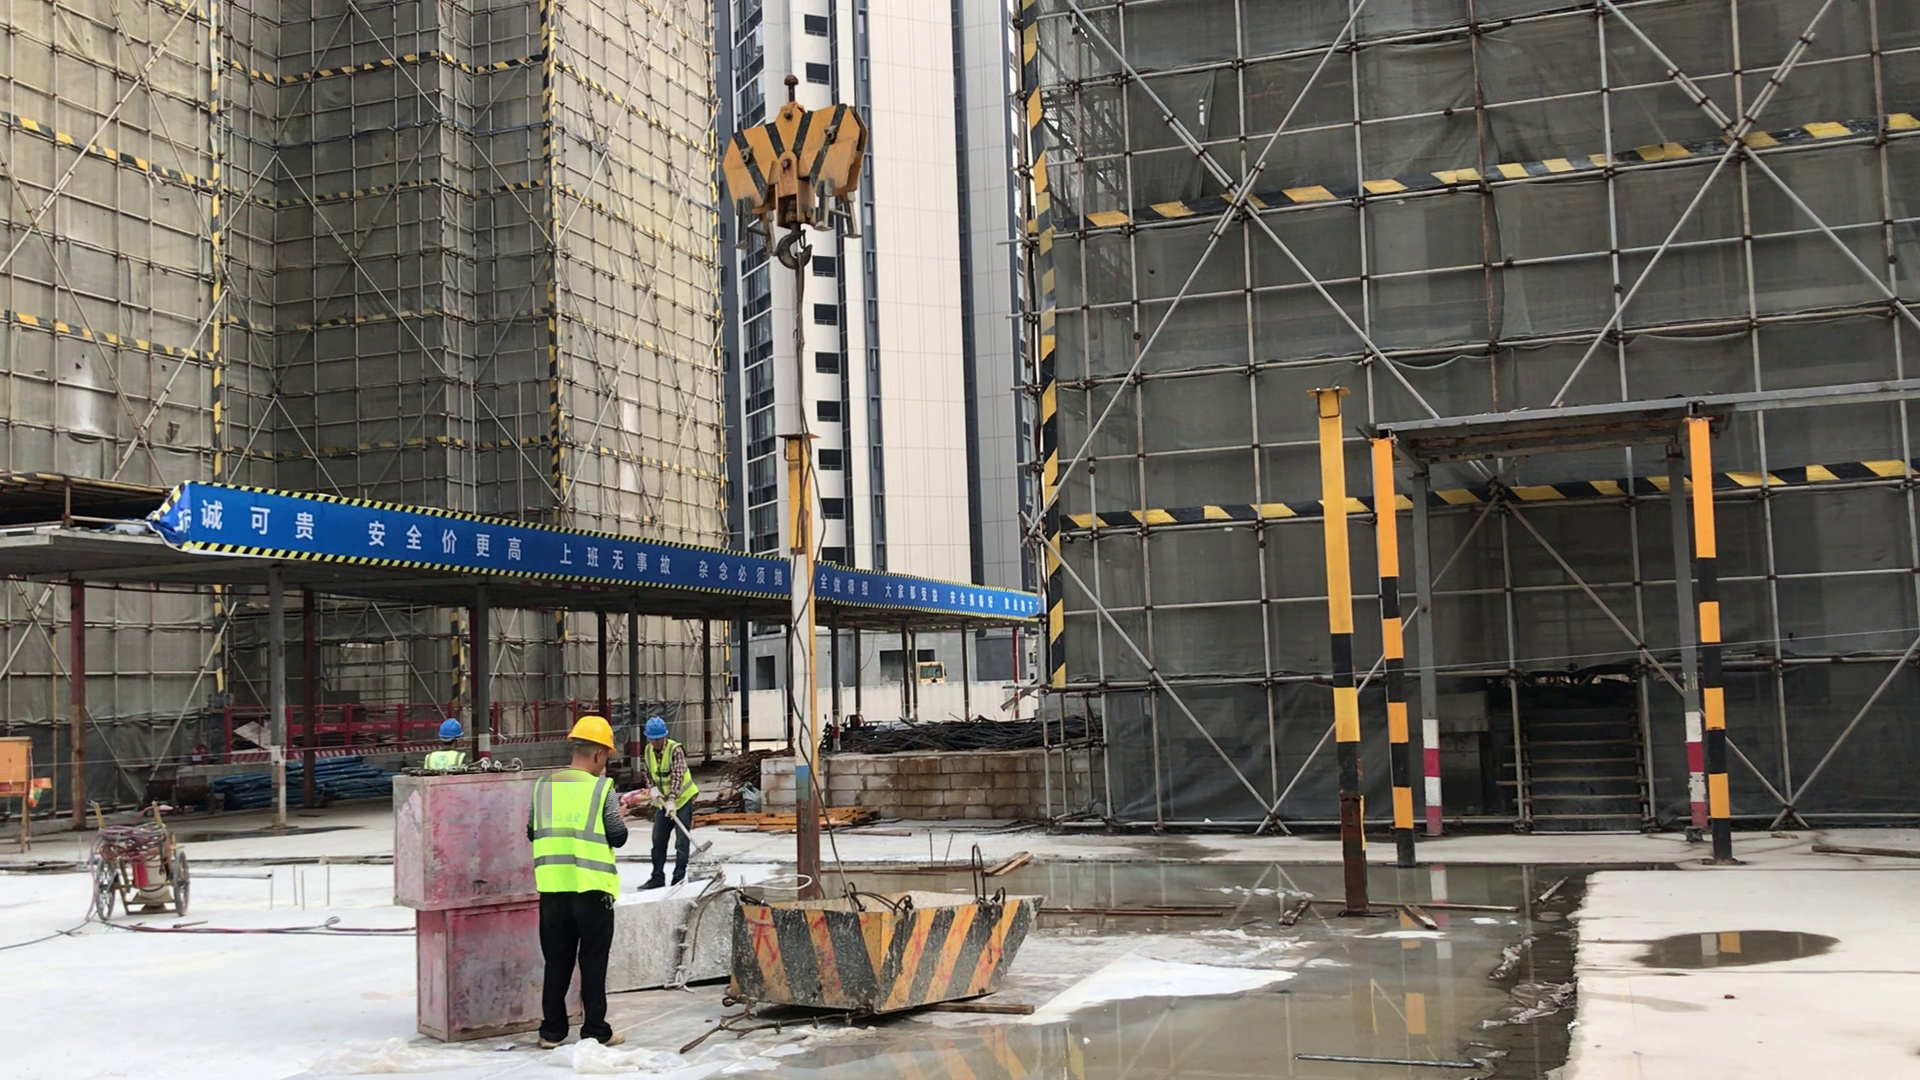ebox: (1, 733, 35, 797)
fence: (228, 697, 577, 766)
handcart: (88, 795, 190, 924)
helmet: (565, 711, 616, 754), (435, 716, 466, 738), (639, 714, 666, 735)
hook: (720, 79, 862, 266)
hopper: (724, 885, 1042, 1010), (613, 883, 748, 995)
person: (528, 714, 627, 1047), (639, 716, 698, 887), (423, 718, 473, 770)
slogan: (183, 480, 1042, 622)
vest: (534, 771, 620, 899), (643, 742, 698, 812), (424, 747, 466, 769)
